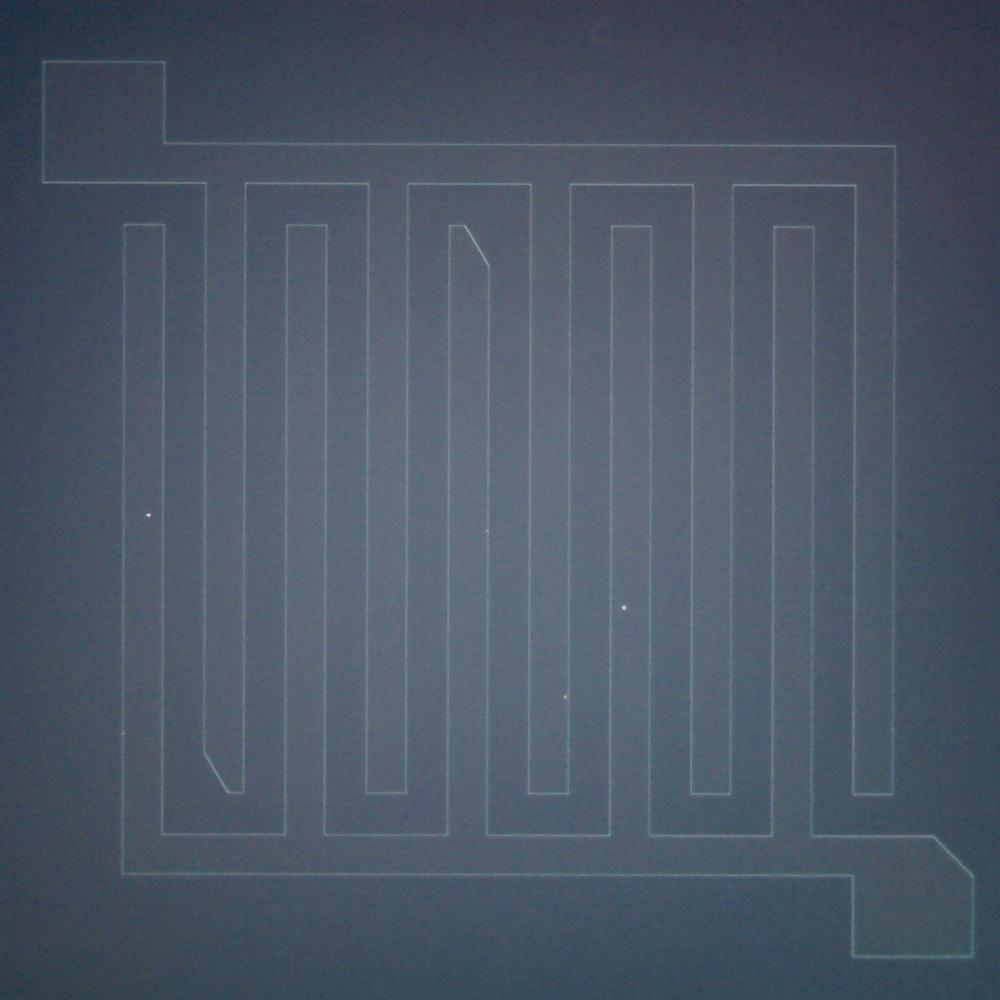dot: (146, 513, 151, 518), (622, 606, 626, 610), (564, 695, 568, 699)
